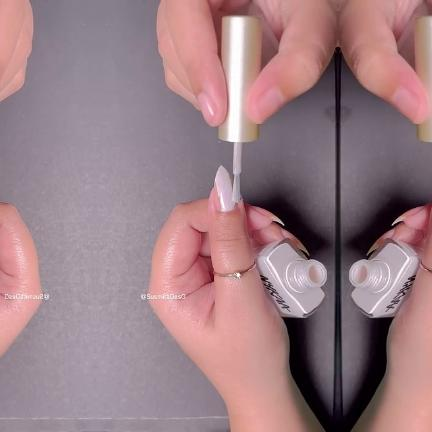Nail: (213, 165, 237, 212), (256, 89, 283, 119), (391, 89, 418, 119), (280, 229, 308, 256), (366, 229, 394, 256), (197, 93, 217, 124), (251, 206, 283, 225), (391, 206, 423, 225)
